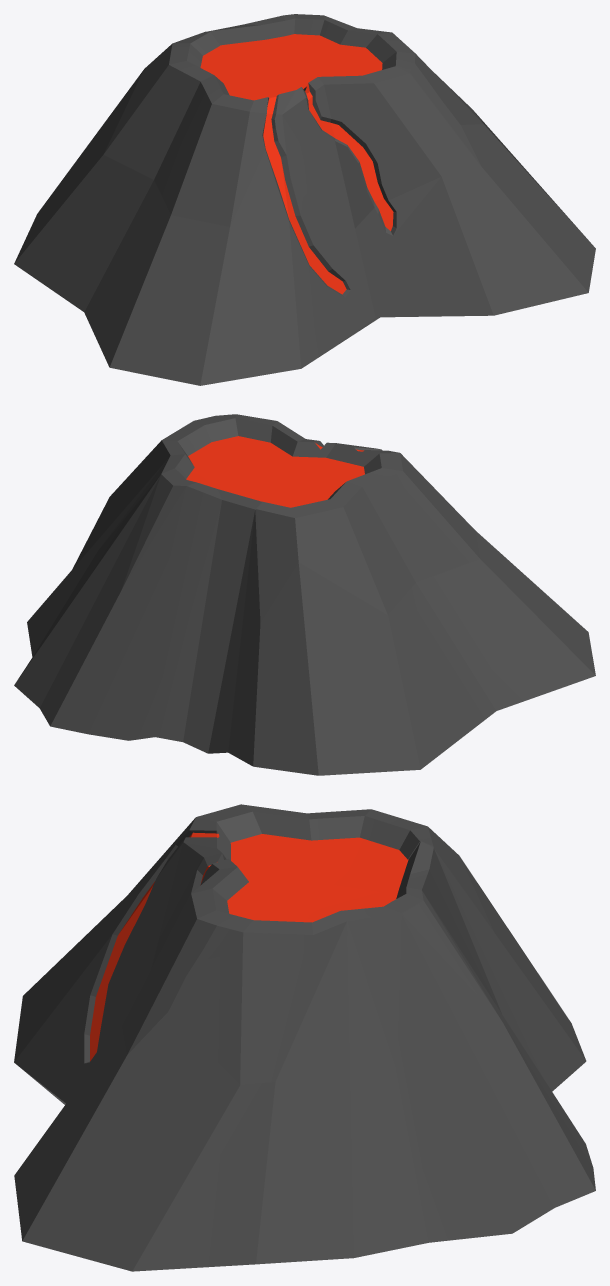
File: volcanoLowPoly01.fbx
3 renders of one model, top to bottom at view 1: azimuth 30°, elevation 25°; view 2: azimuth 150°, elevation 25°; view 3: azimuth 270°, elevation 25°, orthographic. The views are drawn at different scales.
Visible parts, largest first — view 1: Plane.004; view 2: Plane.004; view 3: Plane.004.
Part boxes in pixels (x1,y1,x2,y2): Plane.004: [14, 14, 595, 385]; Plane.004: [14, 414, 595, 775]; Plane.004: [14, 804, 595, 1271].
Bounding box in the file's own units: 254 × 107 × 205.
1 material, 1 textured.
